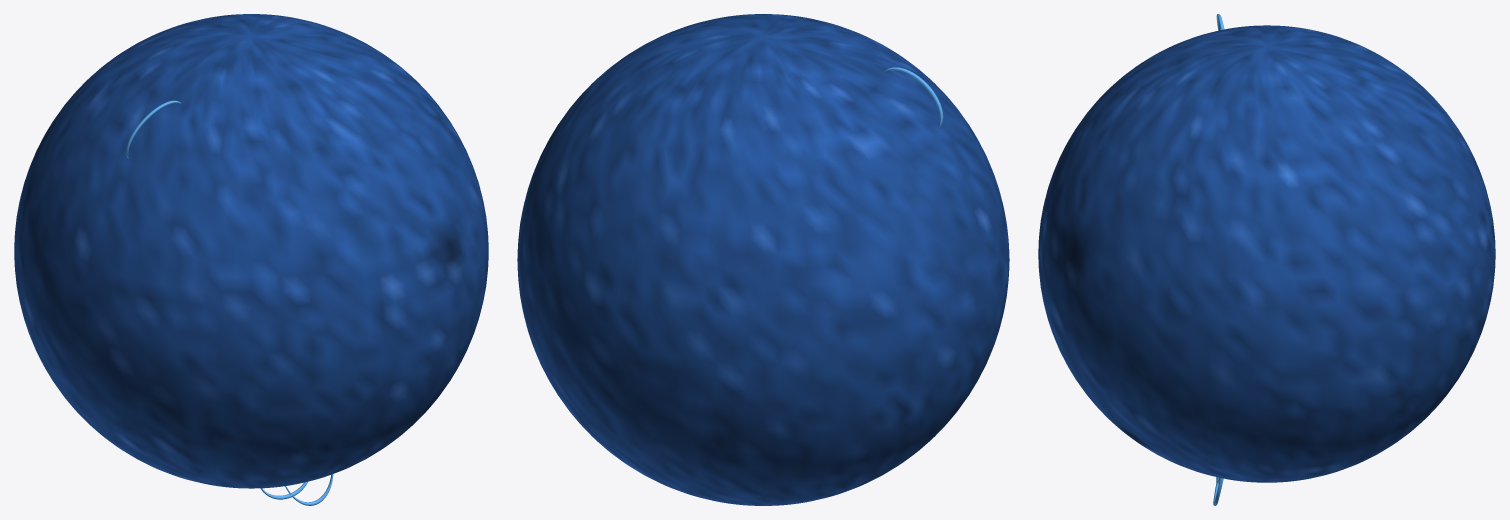
Rendered from Star_05.fbx.
3 renders of one model, left to right at view 1: azimuth 30°, elevation 25°; view 2: azimuth 150°, elevation 25°; view 3: azimuth 270°, elevation 25°, orthographic. The views are drawn at different scales.
Parts seen in each view (by area): view 1: Star_05; view 2: Star_05; view 3: Star_05.
Part boxes in pixels (x1=…): Star_05: x1=14, y1=14, x2=488, y2=505; Star_05: x1=517, y1=14, x2=1009, y2=505; Star_05: x1=1038, y1=14, x2=1495, y2=505.
Size of the model in its own units: 200 by 213 by 200.
